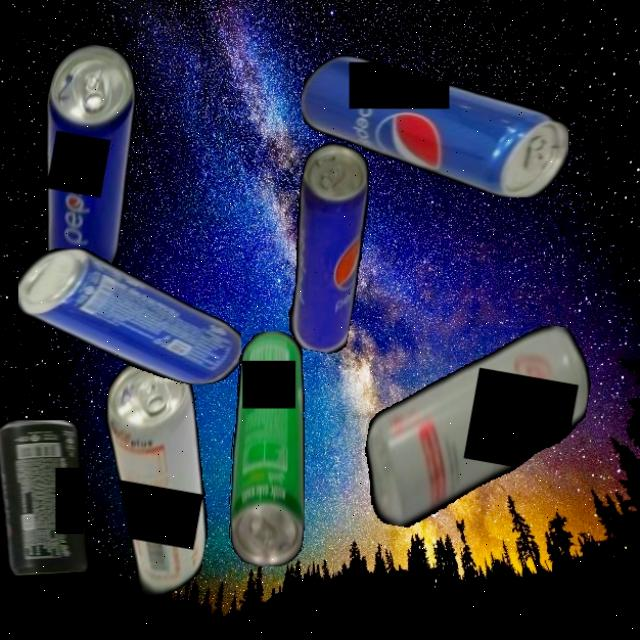debris: (354, 298, 599, 554), (73, 348, 236, 612), (302, 56, 568, 198), (17, 39, 152, 287), (18, 248, 242, 384), (273, 138, 380, 356), (228, 330, 305, 566), (0, 419, 91, 576)
